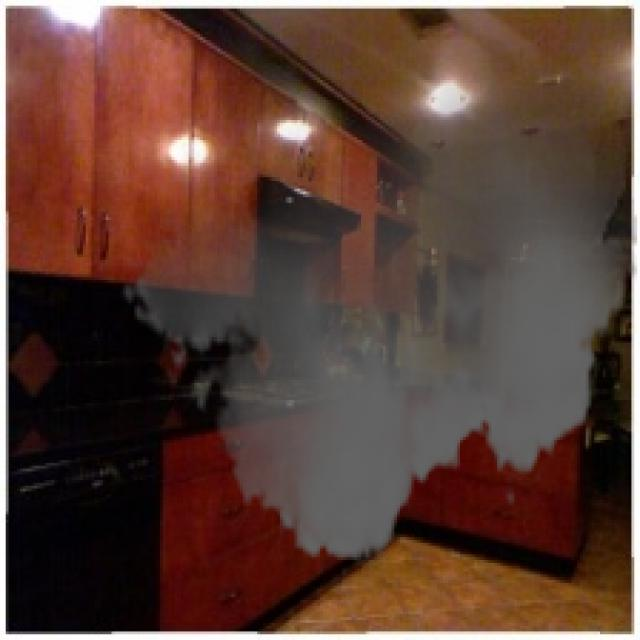smoke: (120, 34, 637, 580)
